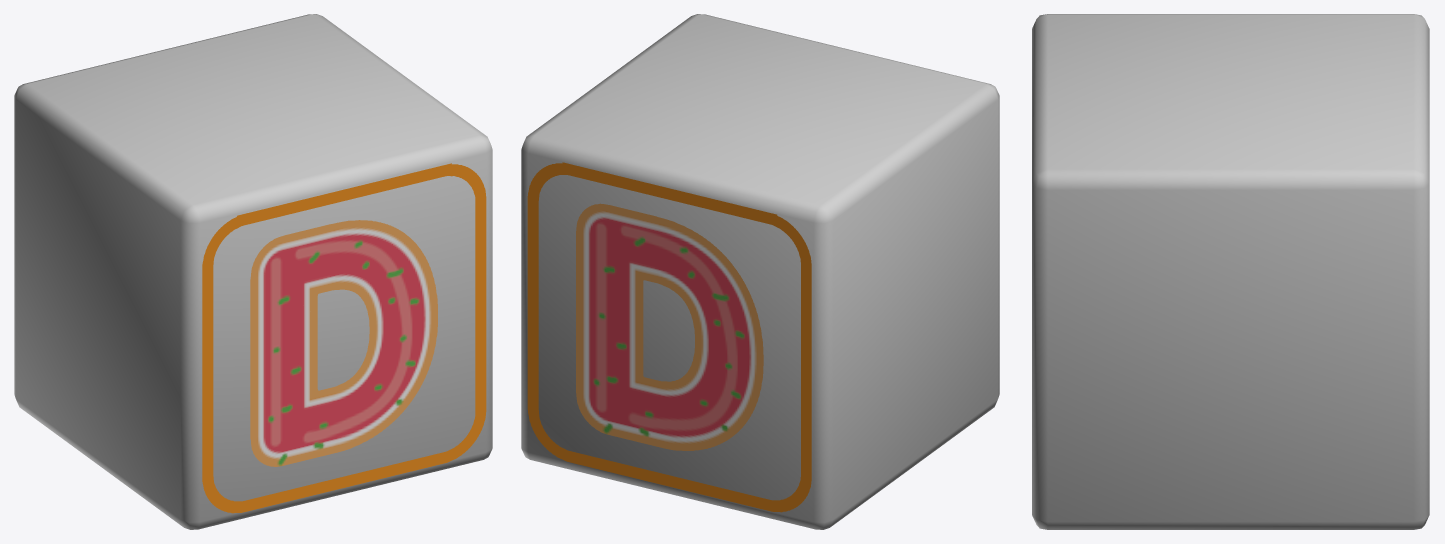
File: Child_Cube_D.FBX
3 renders of one model, left to right at view 1: azimuth 30°, elevation 25°; view 2: azimuth 150°, elevation 25°; view 3: azimuth 270°, elevation 25°, orthographic. The views are drawn at different scales.
Parts seen in each view (by area): view 1: Child_Cube_D; view 2: Child_Cube_D; view 3: Child_Cube_D.
Part boxes in pixels (left/top/right/bottom): Child_Cube_D: left=14, top=14, right=492, bottom=529; Child_Cube_D: left=521, top=14, right=999, bottom=529; Child_Cube_D: left=1032, top=14, right=1429, bottom=529.
Bounding box in the file's own units: 0.2122 × 0.2122 × 0.2149.
